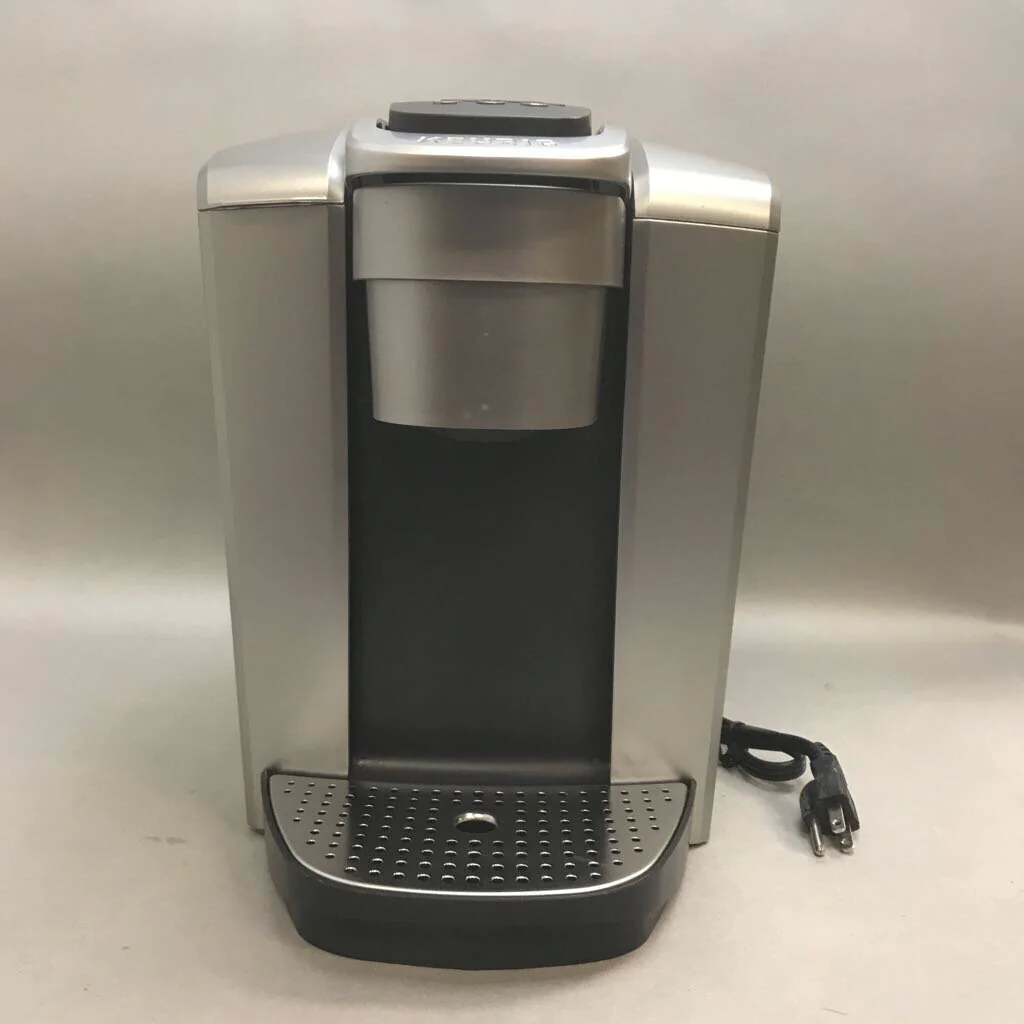platform: (452, 808, 499, 836)
